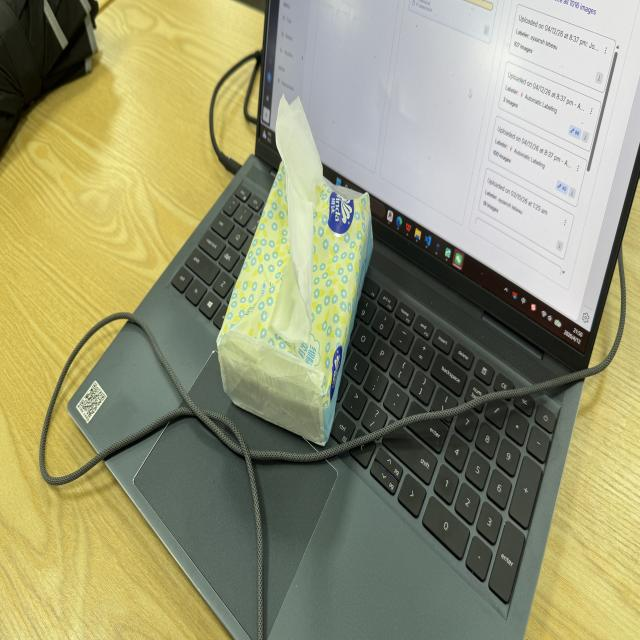tissue: (218, 99, 372, 443), (272, 97, 323, 342)
